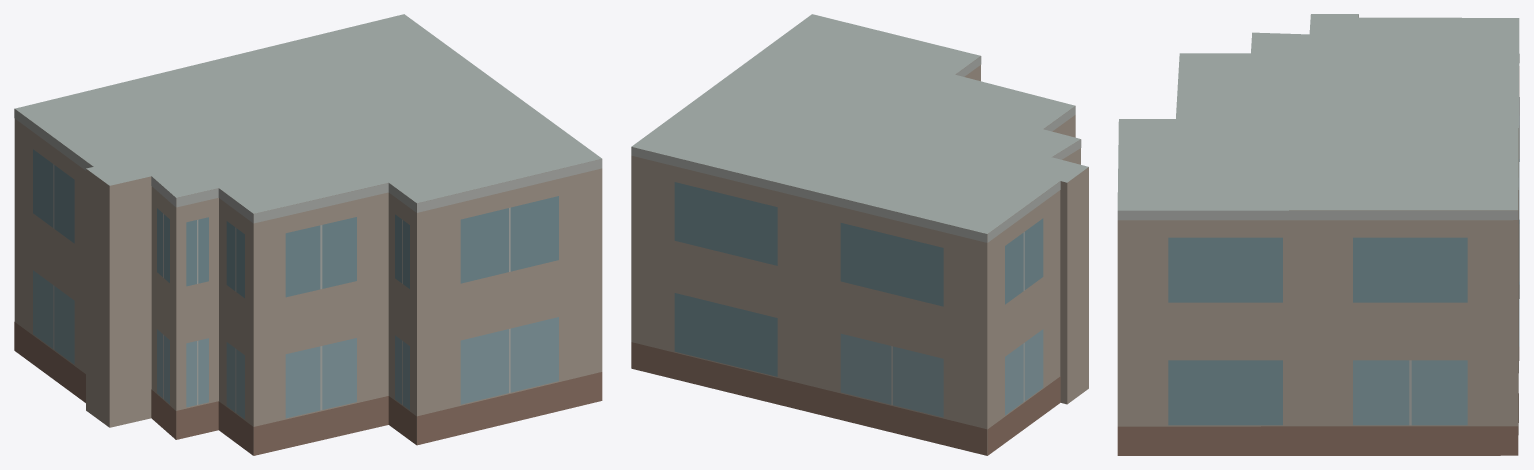
Rendered from survey-upis-32765707.glb.
3 renders of one model, left to right at view 1: azimuth 30°, elevation 25°; view 2: azimuth 150°, elevation 25°; view 3: azimuth 270°, elevation 25°, orthographic. The views are drawn at different scales.
Visible parts, largest first — view 1: survey-upis-32765707.tmp; view 2: survey-upis-32765707.tmp; view 3: survey-upis-32765707.tmp.
Boxes of the visible parts, bbox=[...] form: survey-upis-32765707.tmp: bbox=[14, 14, 602, 455]; survey-upis-32765707.tmp: bbox=[631, 14, 1088, 455]; survey-upis-32765707.tmp: bbox=[1117, 14, 1519, 455].
Bounding box in the file's own units: 10.49 × 6.1 × 9.07.
